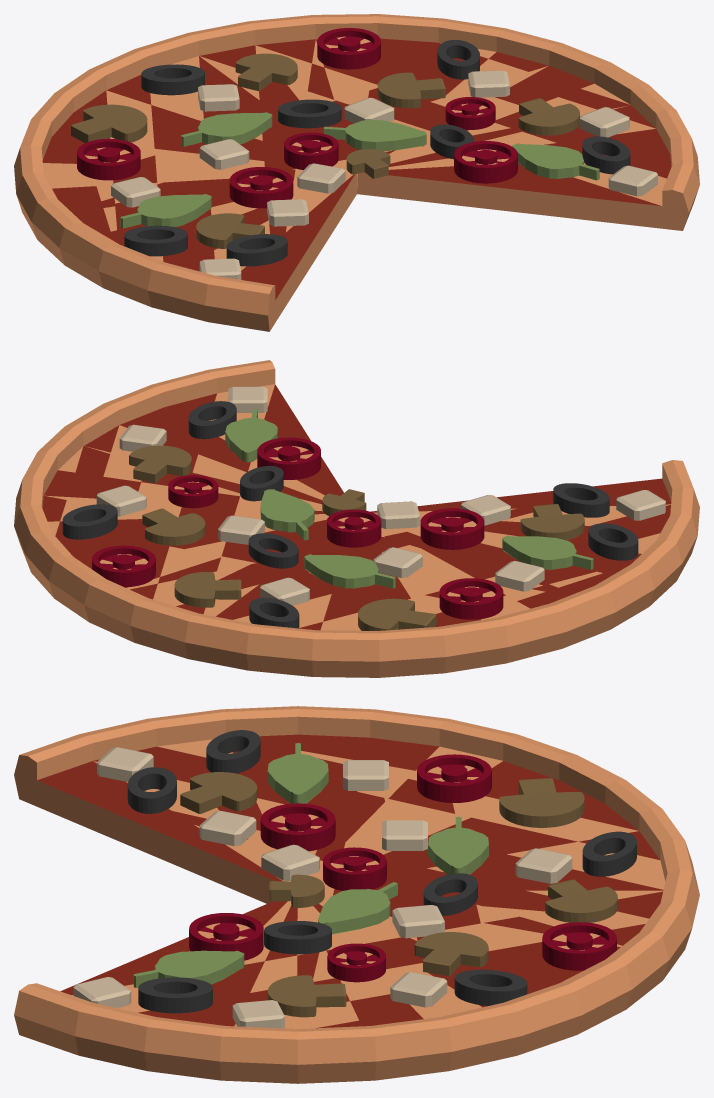
File: pizza_2_partyassets.fbx
3 renders of one model, top to bottom at view 1: azimuth 30°, elevation 25°; view 2: azimuth 150°, elevation 25°; view 3: azimuth 270°, elevation 25°, orthographic. The views are drawn at different scales.
Visible parts, largest first — view 1: pizza_2_partyassets, Cube.043, Cube.048, Cube.122, Cube.044, Cube.023, Cube.047; view 2: pizza_2_partyassets, Cube.043, Cube.048, Cube.122, Cube.044, Cube.023, Cube.047; view 3: pizza_2_partyassets, Cube.043, Cube.048, Cube.023, Cube.122, Cube.044, Cube.047.
Part boxes in pixels (box(x1,y1,x2,y2)): pizza_2_partyassets: box(14, 14, 699, 331); Cube.043: box(42, 38, 671, 299); Cube.048: box(77, 28, 517, 208); Cube.122: box(111, 70, 657, 279); Cube.044: box(124, 40, 630, 266); Cube.023: box(71, 53, 579, 248); Cube.047: box(120, 112, 599, 228); pizza_2_partyassets: box(14, 360, 699, 677); Cube.043: box(42, 384, 671, 630); Cube.048: box(92, 437, 503, 619); Cube.122: box(96, 386, 665, 605); Cube.044: box(62, 401, 638, 628); Cube.023: box(129, 445, 584, 630); Cube.047: box(225, 408, 593, 588); pizza_2_partyassets: box(14, 706, 699, 1083); Cube.043: box(37, 734, 663, 1028); Cube.048: box(189, 754, 616, 982); Cube.023: box(180, 772, 617, 1017); Cube.122: box(73, 747, 572, 1028); Cube.044: box(127, 730, 636, 1013); Cube.047: box(133, 743, 488, 987).
Bounding box in the file's own units: 43.34 × 2.78 × 36.99.
